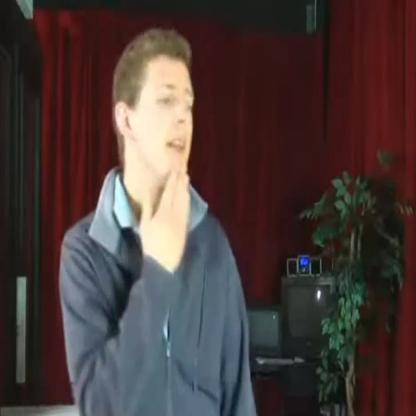ThankYou: (96, 20, 211, 280)
